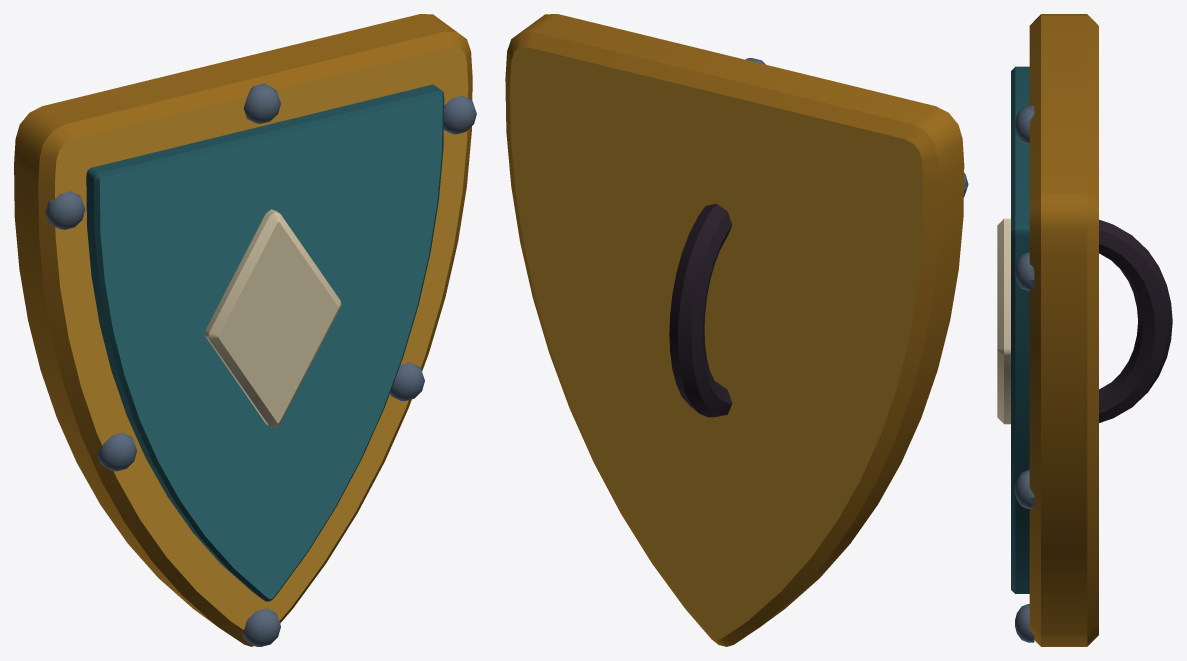
File: HeaterShield_16.glb
3 views of the same model, side by side, from view 1: azimuth 30°, elevation 25°; view 2: azimuth 150°, elevation 25°; view 3: azimuth 270°, elevation 25° (orthographic). The views are drawn at different scales.
Parts seen in each view (by area): view 1: HeaterShield_16; view 2: HeaterShield_16; view 3: HeaterShield_16.
Part boxes in pixels (box(x1,y1,x2,y2)): HeaterShield_16: box(14, 14, 476, 646); HeaterShield_16: box(505, 14, 968, 646); HeaterShield_16: box(997, 14, 1172, 646).
Bounding box in the file's own units: 2.07 × 2.58 × 0.76.
